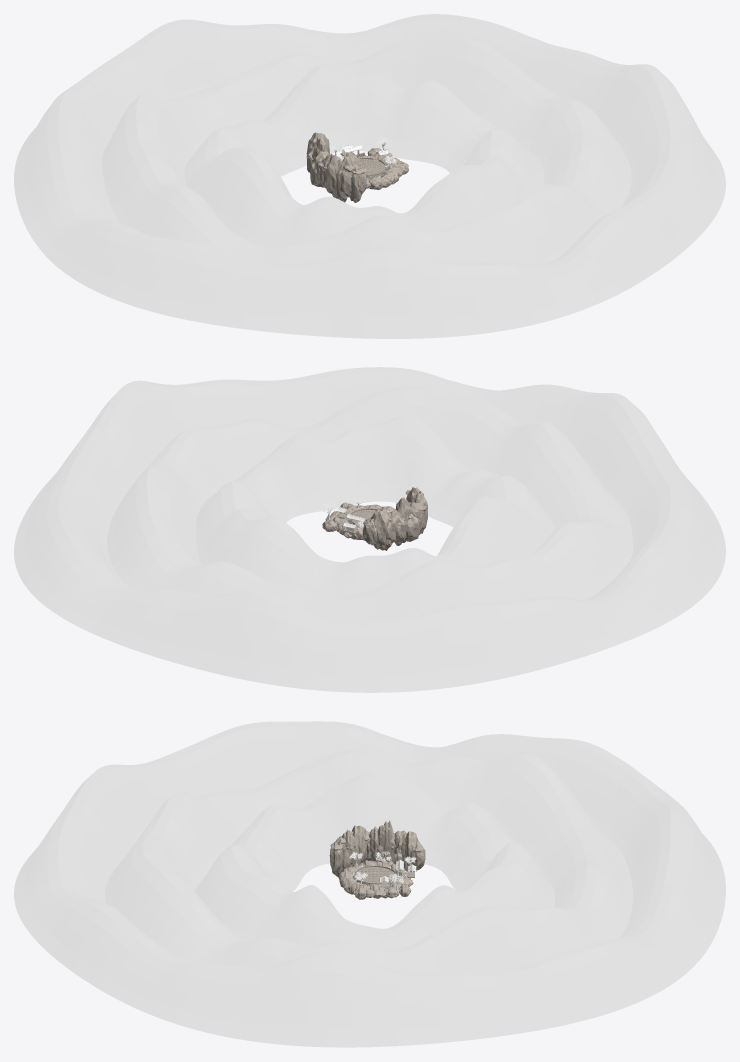
Rendered from 栖云古庭.glb.
3 views of the same model, one above another, from view 1: azimuth 30°, elevation 25°; view 2: azimuth 150°, elevation 25°; view 3: azimuth 270°, elevation 25° (orthographic).
Parts seen in each view (by area): view 1: vista / Distant mountain, near / Stratified cliff; view 2: vista / Distant mountain, near / Stratified cliff; view 3: vista / Distant mountain, near / Stratified cliff, near / Carved limestone.
Part boxes in pixels (x1,y1,x2,y2): vista / Distant mountain: [14, 14, 725, 338]; near / Stratified cliff: [306, 132, 408, 202]; vista / Distant mountain: [14, 367, 725, 692]; near / Stratified cliff: [322, 487, 427, 550]; vista / Distant mountain: [14, 721, 725, 1047]; near / Stratified cliff: [329, 820, 425, 899]; near / Carved limestone: [354, 865, 414, 887].
Bounding box in the file's own units: 610 × 69.01 × 608.
Materials: 16 (4 with a texture image).
